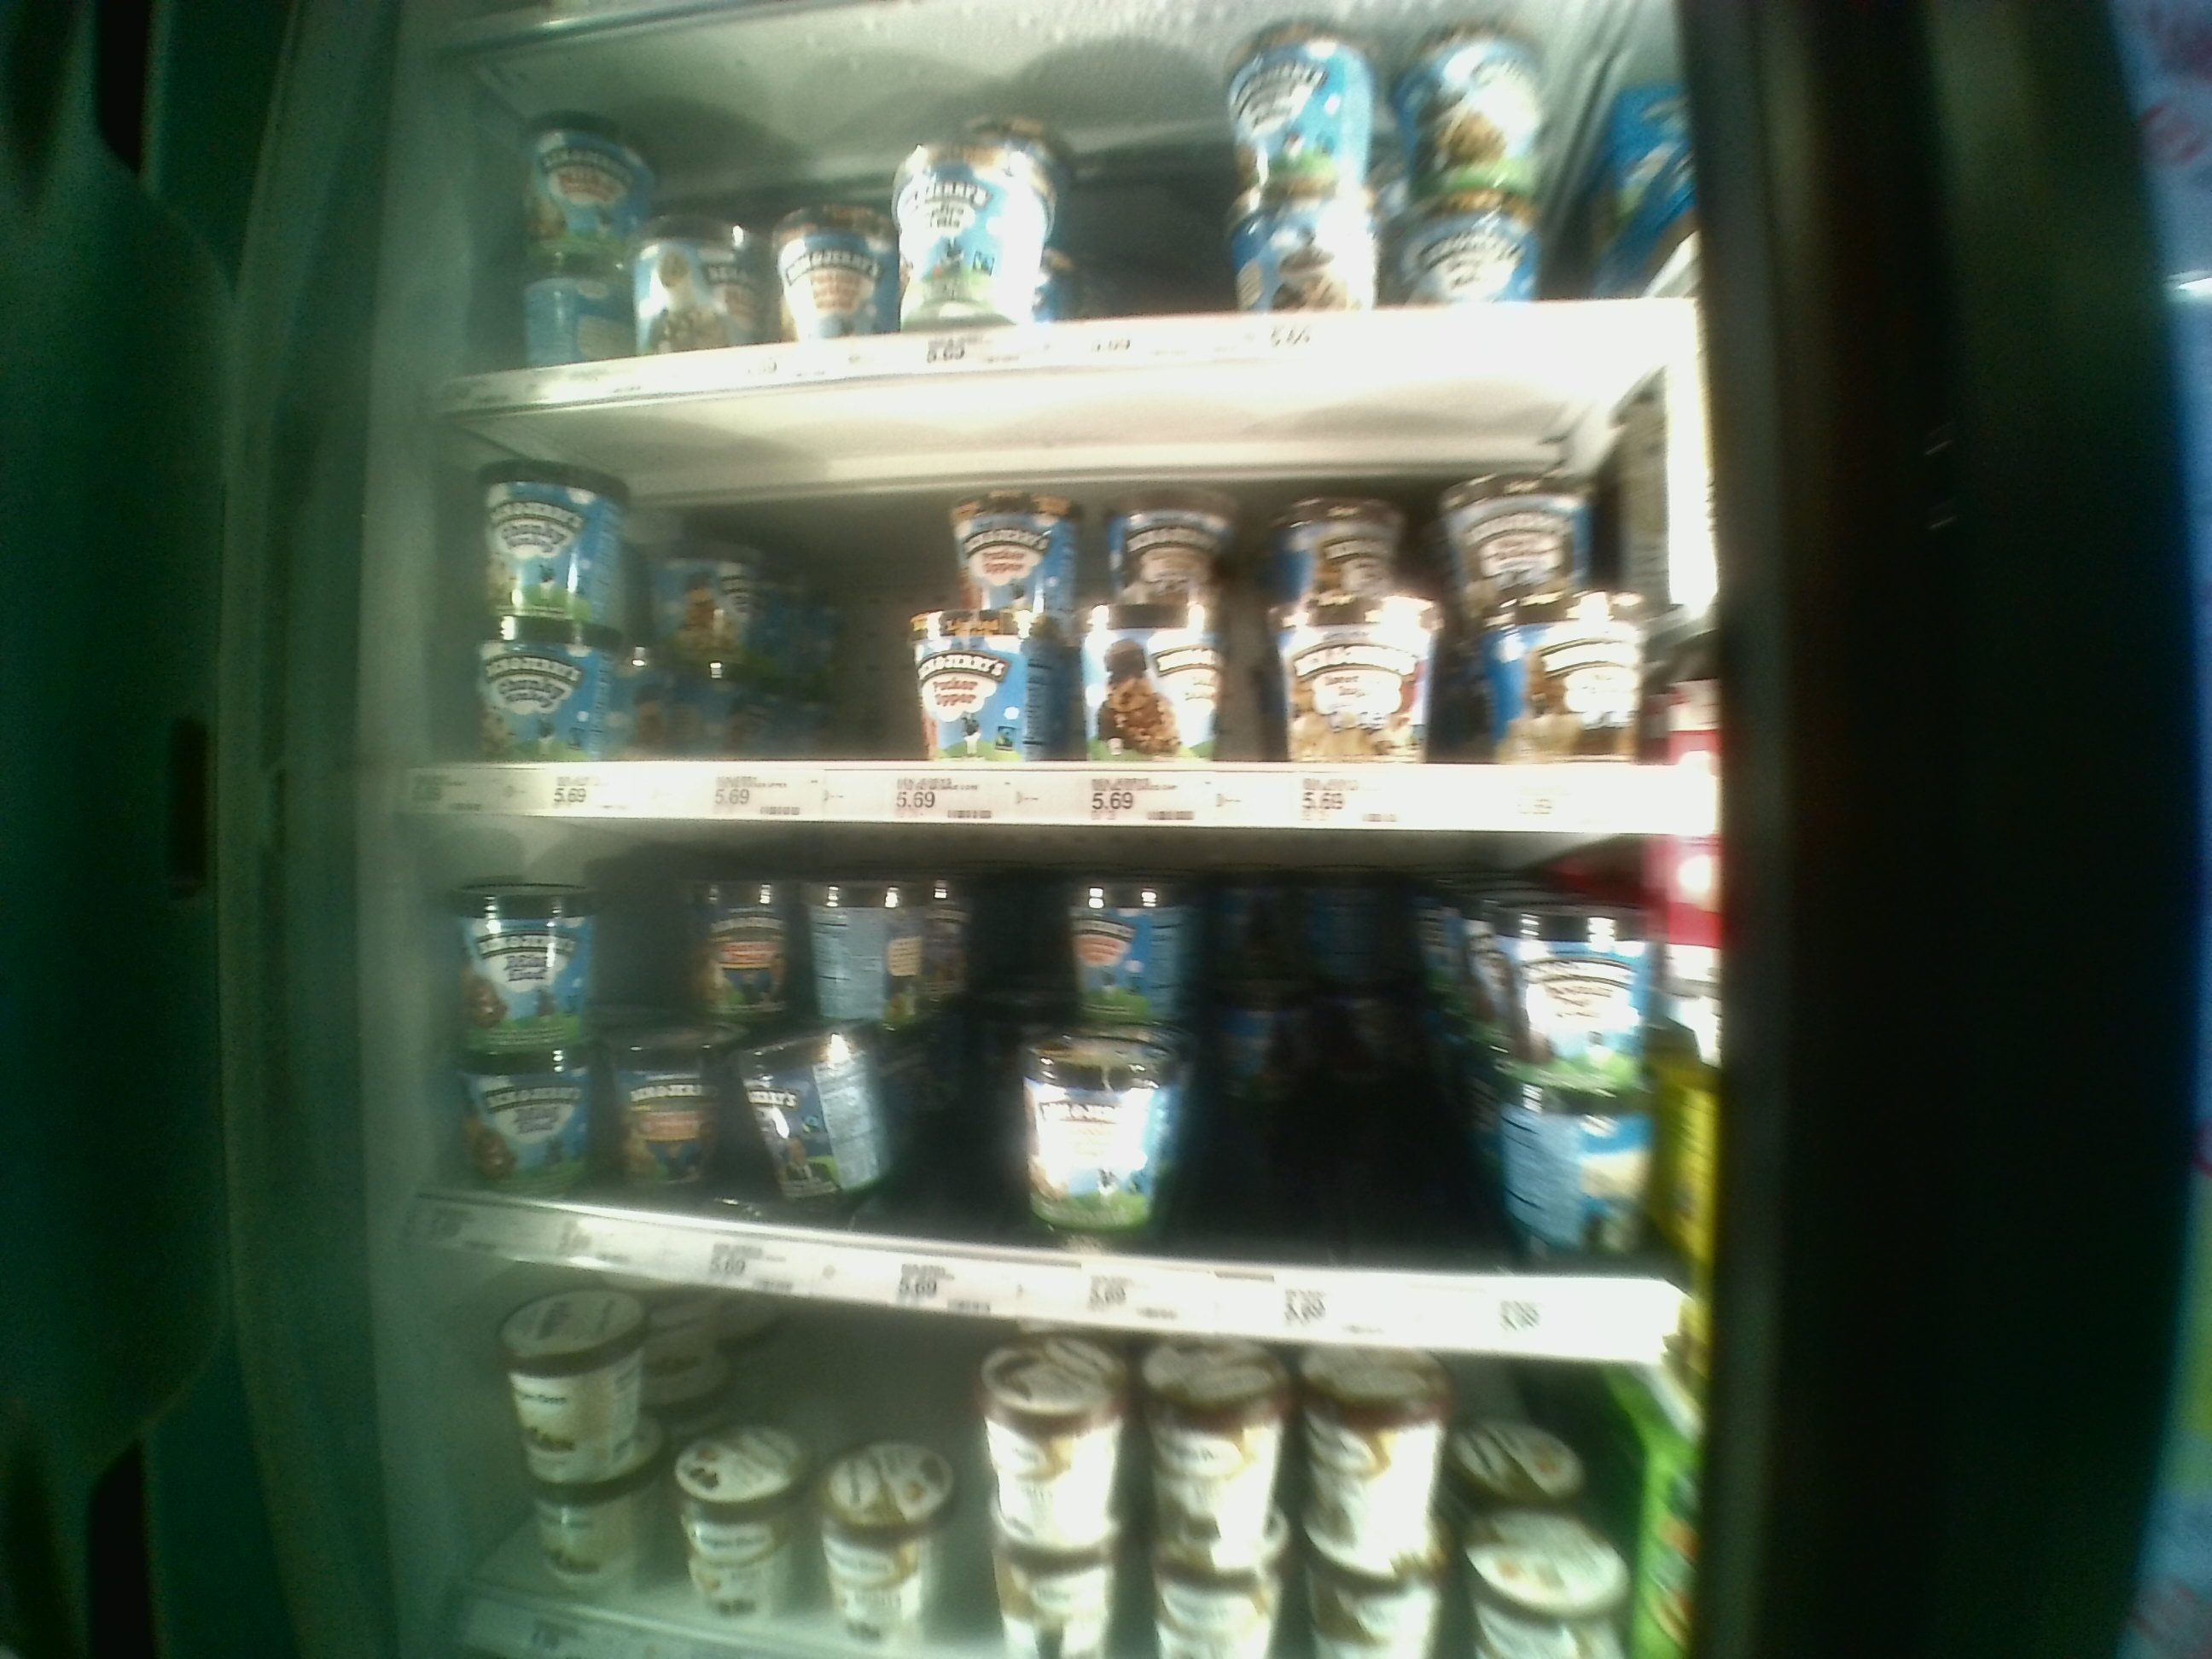shelf: (411, 826, 1683, 1361), (432, 415, 1696, 845)
